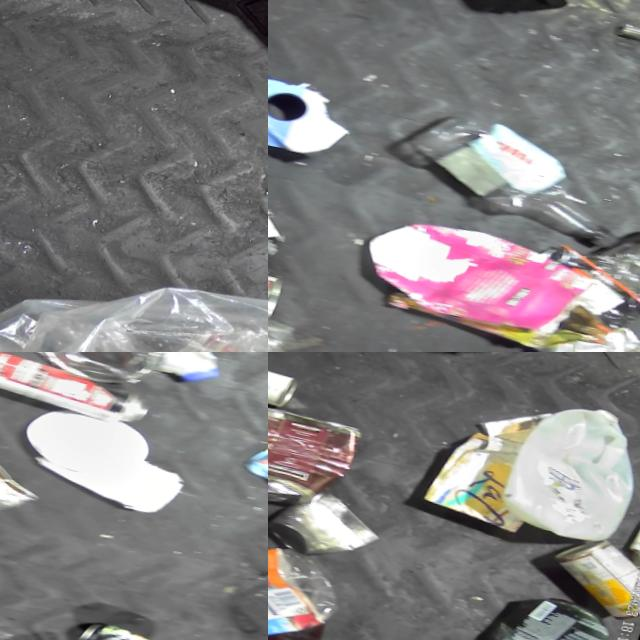can: (268, 383, 372, 520), (0, 352, 168, 431), (268, 483, 393, 570), (542, 530, 640, 626), (0, 398, 65, 541), (11, 352, 178, 393), (534, 311, 640, 352), (82, 617, 185, 640)
milk_jug: (495, 395, 640, 549), (50, 352, 252, 391)
non_white_jug: (357, 211, 609, 347), (268, 67, 364, 165), (475, 586, 627, 640)
plastic_bottle: (391, 102, 640, 254), (268, 522, 360, 640), (600, 209, 640, 317), (611, 16, 640, 81)
